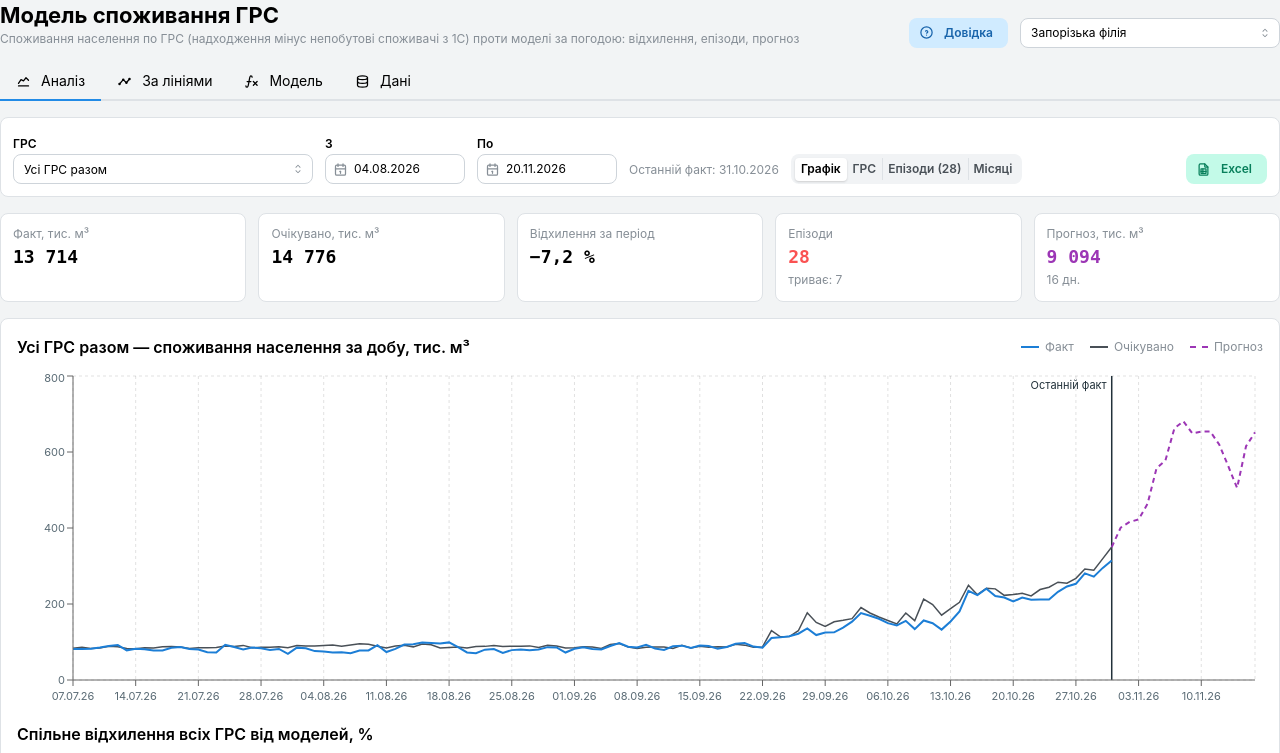
Test case: GrsModelPage › the period, the GRS and an episode are picked above the chart
Expected: the radio button labelled "Графік" is shown, [801,161,841,176]
Expected: the dropdown labelled "ГРС" holds "Усі ГРС разом", [13,154,313,184]
Click the radio button labelled "ГРС". click: (864, 168)
box: [853,161,876,176]
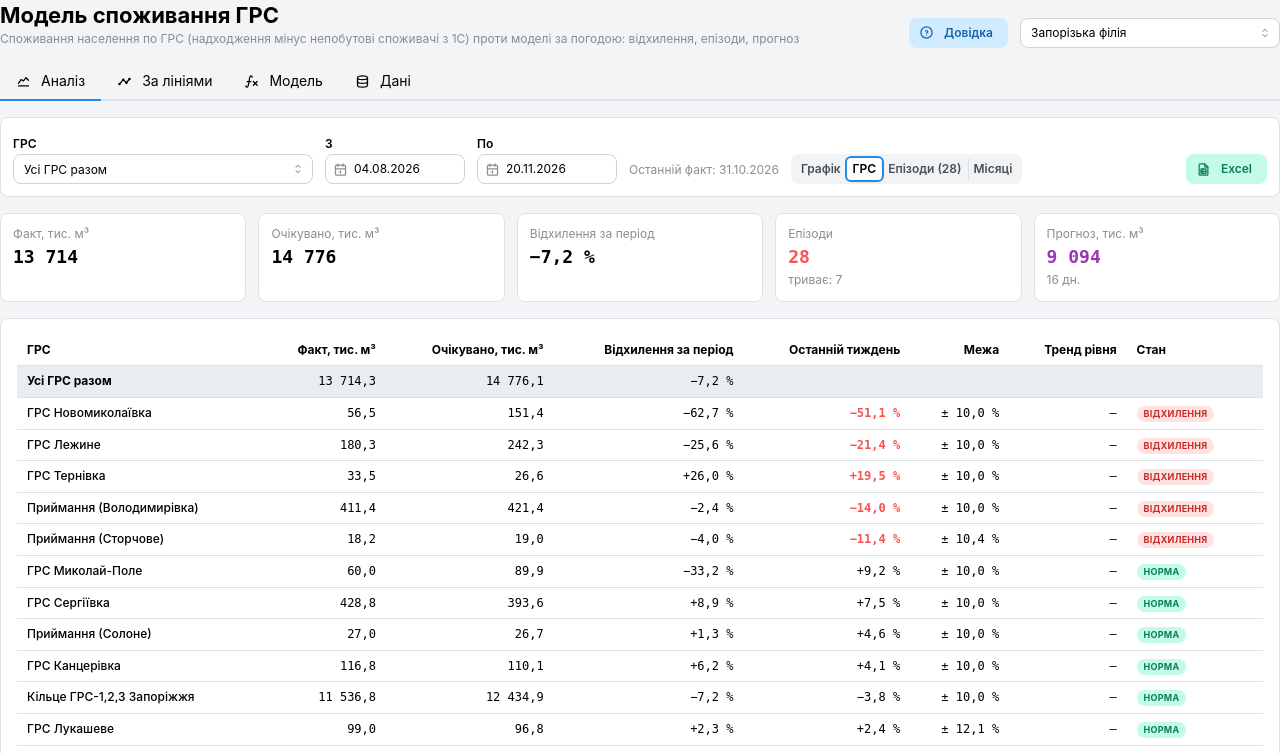
Click the cell "Приймання (Володимирівка)". click: (139, 508)
box: [17,492,261,524]
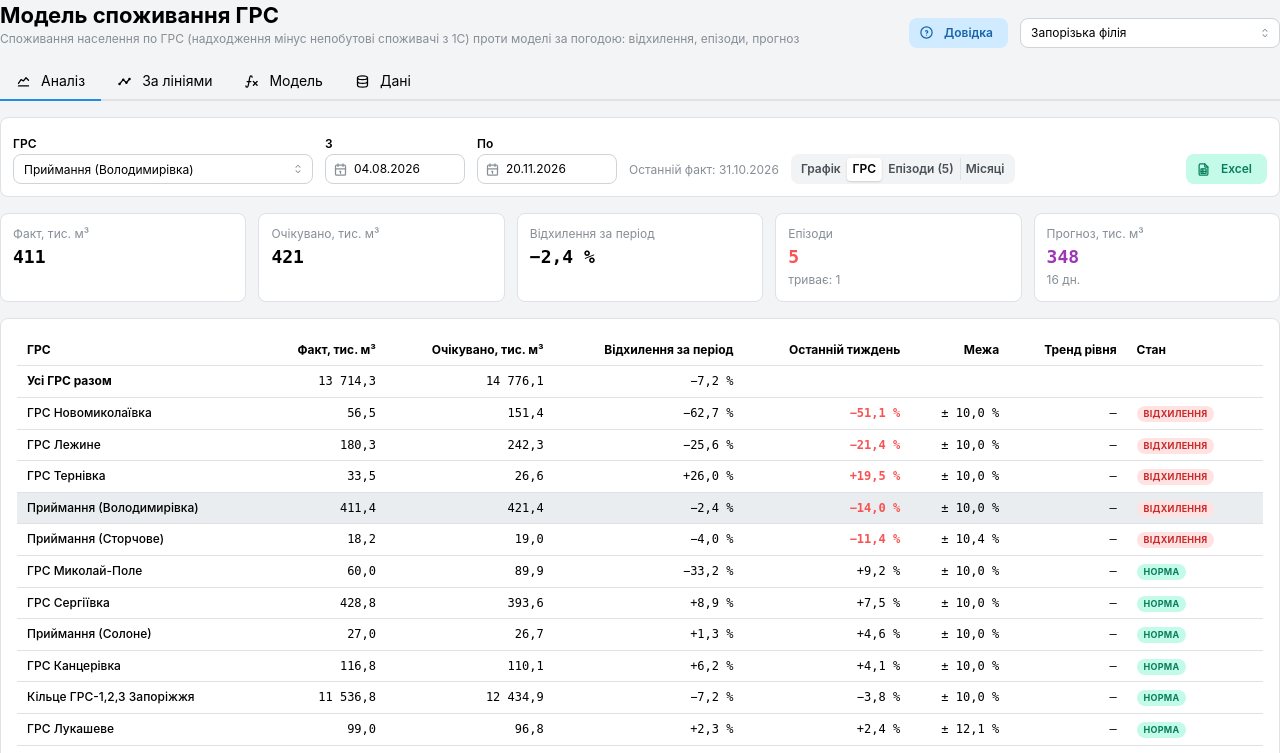
Expected: the dropdown labelled "ГРС" holds "Приймання (Володимирівка)", [13,154,313,184]
Click the radio button labelled "Епізоди (5)". click: (921, 168)
box: [888,161,954,176]
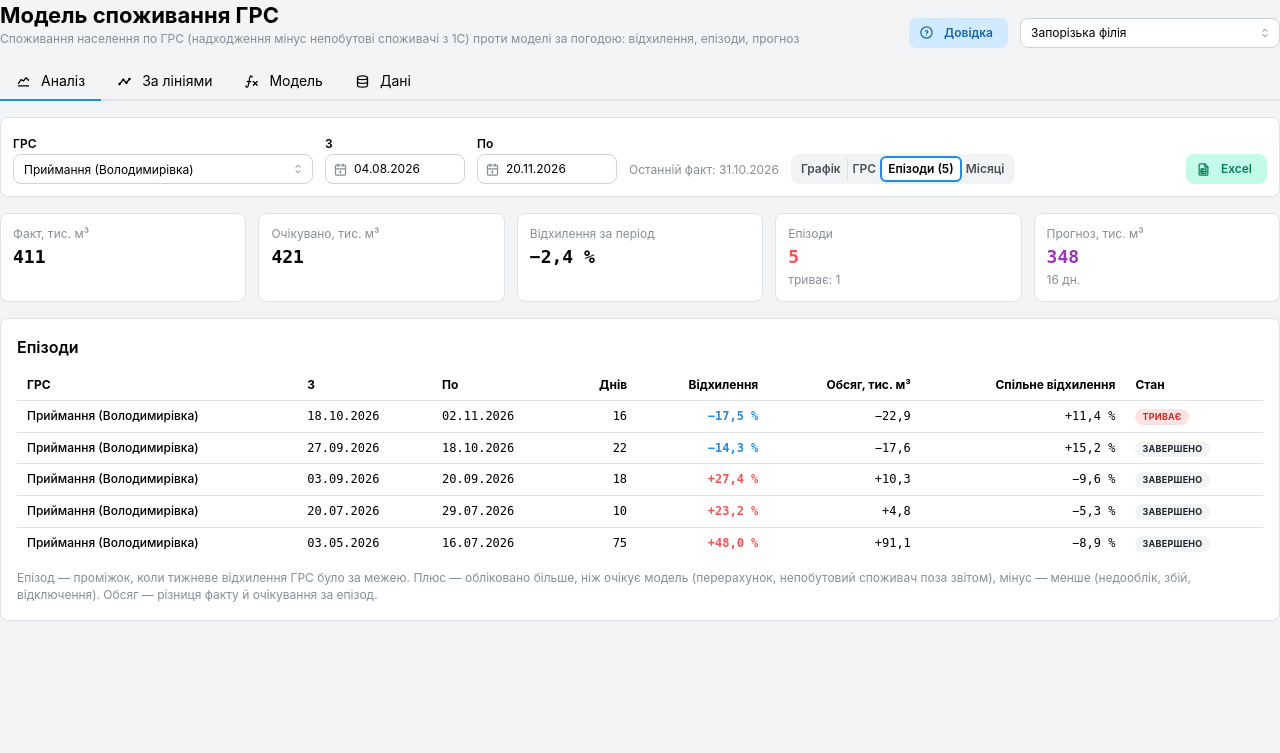
Click the cell "Приймання (Володимирівка)" in the row of "02.11.2026". click: (157, 416)
box: [17,401,297,432]
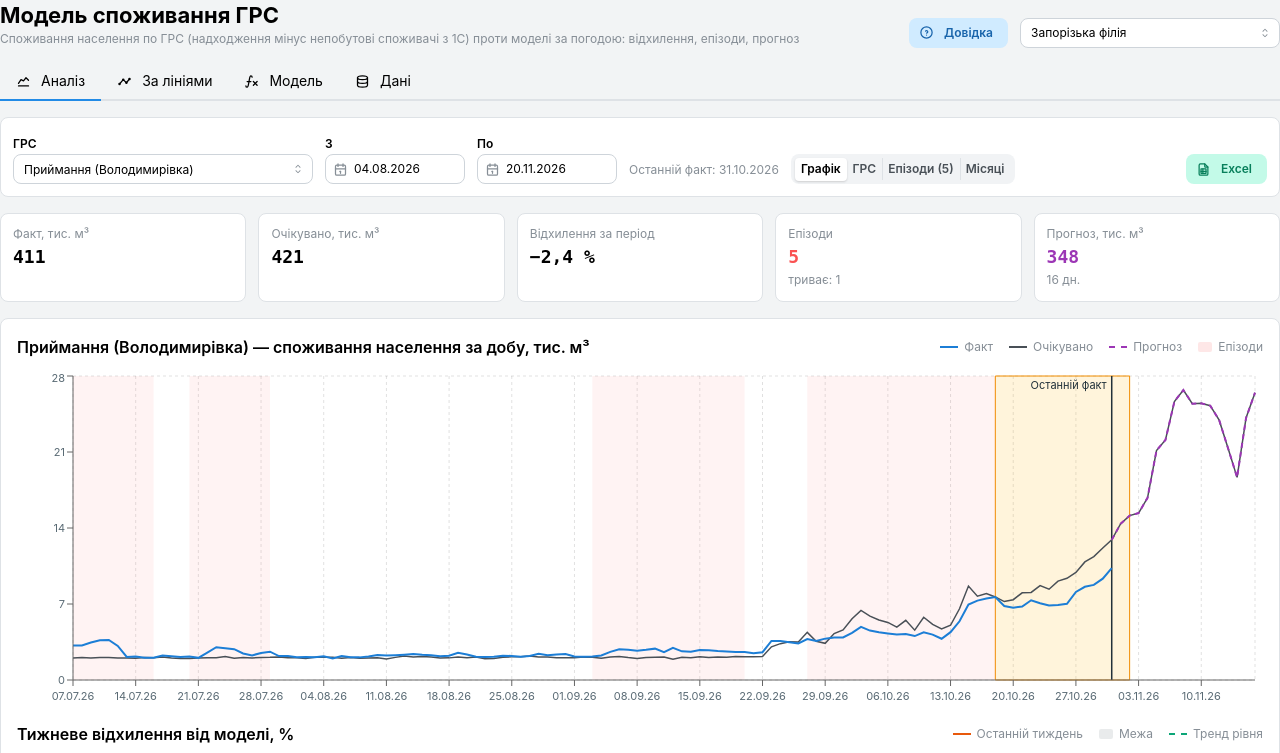
Expected: the radio button labelled "Графік" is checked, [801,161,841,176]
